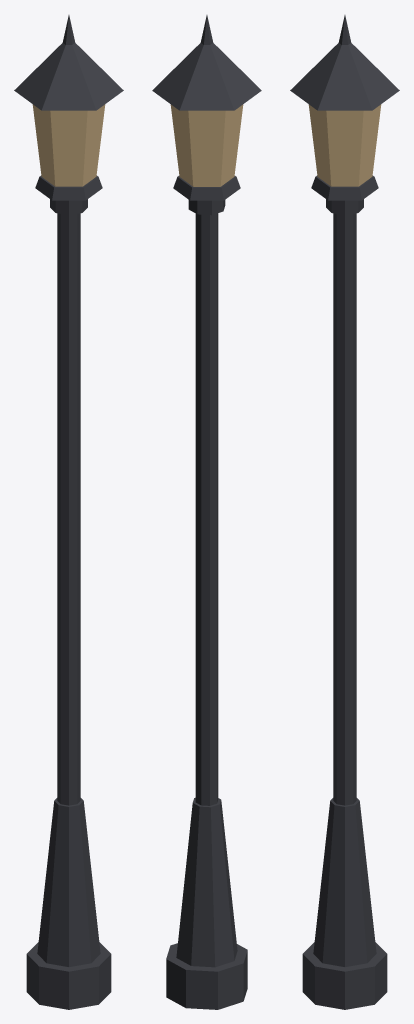
The model's file is objet_lampadaire_lanterne.glb.
The picture shows the model from 3 angles, left to right: view 1: azimuth 90°, elevation 25°; view 2: azimuth 150°, elevation 25°; view 3: azimuth 270°, elevation 25°; orthographic projection.
Visible parts, largest first — view 1: objet_lampadaire_lanterne; view 2: objet_lampadaire_lanterne; view 3: objet_lampadaire_lanterne.
Boxes of the visible parts, x1=… form: objet_lampadaire_lanterne: x1=14, y1=15, x2=123, y2=1009; objet_lampadaire_lanterne: x1=152, y1=15, x2=261, y2=1009; objet_lampadaire_lanterne: x1=290, y1=15, x2=399, y2=1009.
Bounding box in the file's own units: 0.4503 × 5.11 × 0.52.
